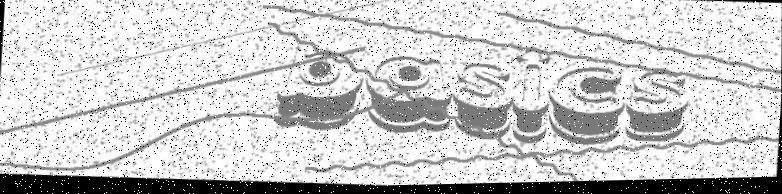a: (363, 55, 454, 139)
b: (274, 43, 366, 136)
c: (547, 66, 625, 150)
i: (510, 51, 552, 149)
s: (620, 72, 690, 149), (450, 63, 515, 145)
